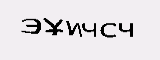А: (50, 25, 70, 39)
К: (97, 14, 115, 38)
М: (70, 23, 88, 44)
П: (35, 22, 51, 43)
С: (86, 17, 100, 41)
